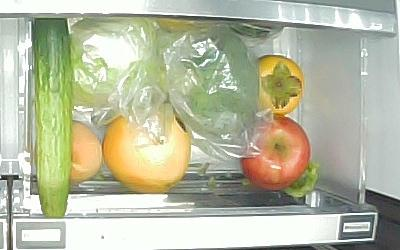apple: (240, 116, 311, 189)
broccoli_vinyl: (171, 30, 257, 136)
cucumber: (31, 18, 72, 219)
grapefruit: (102, 102, 193, 192)
lettuce_vinyl: (72, 19, 168, 112)
peach: (68, 121, 102, 185)
persimmon: (251, 55, 306, 116)
